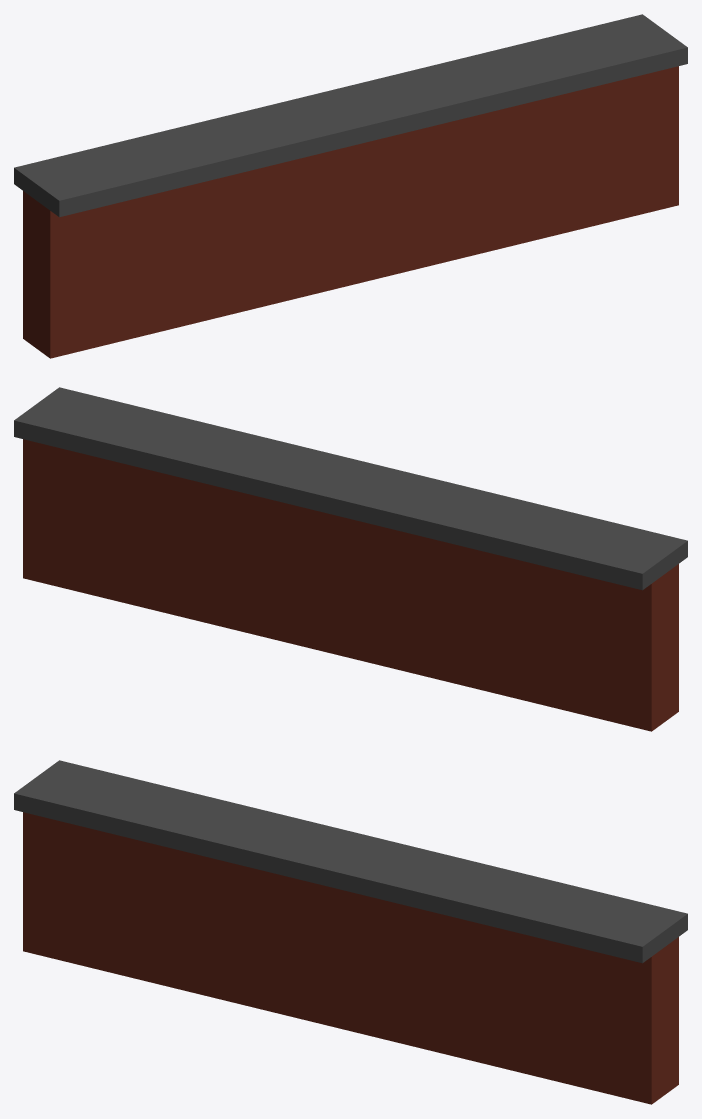
File: KIT_RoofParapet_4m_Brick.glb
3 views of the same model, one above another, from view 1: azimuth 30°, elevation 25°; view 2: azimuth 150°, elevation 25°; view 3: azimuth 330°, elevation 25° (orthographic).
Visible parts, largest first — view 1: KIT_RoofParapet_4m_Brick; view 2: KIT_RoofParapet_4m_Brick; view 3: KIT_RoofParapet_4m_Brick.
Part boxes in pixels (x1,y1,x2,y2): KIT_RoofParapet_4m_Brick: [14, 14, 687, 358]; KIT_RoofParapet_4m_Brick: [14, 387, 687, 731]; KIT_RoofParapet_4m_Brick: [14, 760, 687, 1104].
Size of the model in its own units: 4 by 1 by 0.5.
